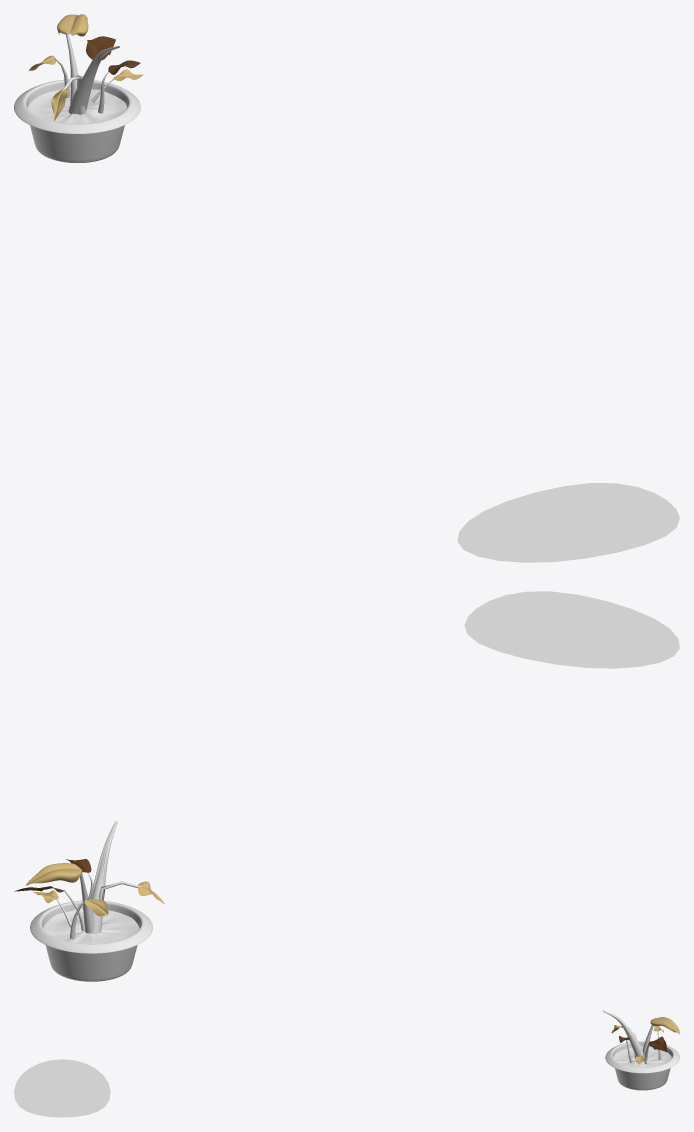
File: Dieffenbachia Old .fbx
3 views of the same model, one above another, from view 1: azimuth 30°, elevation 25°; view 2: azimuth 150°, elevation 25°; view 3: azimuth 270°, elevation 25° (orthographic). The views are drawn at different scales.
Visible parts, largest first — view 1: Plane, Circle, Circle.006, Circle.001; view 2: Plane, Circle, Circle.006, Circle.001, Plane.003; view 3: Plane, Circle, Circle.006, Circle.001, Plane.003, Plane.002.
Boxes of the visible parts, x1,y1,x2,y2 form: Plane: [457, 483, 679, 562]; Circle: [14, 79, 140, 162]; Circle.006: [28, 88, 127, 124]; Circle.001: [68, 46, 119, 114]; Plane: [464, 591, 679, 668]; Circle: [30, 900, 152, 981]; Circle.006: [43, 908, 139, 943]; Circle.001: [84, 821, 117, 934]; Plane.003: [26, 863, 81, 885]; Plane: [14, 1059, 110, 1117]; Circle: [605, 1041, 679, 1090]; Circle.006: [613, 1046, 671, 1067]; Circle.001: [602, 1010, 643, 1056]; Plane.003: [650, 1017, 679, 1034]; Plane.002: [648, 1036, 667, 1051].
Size of the model in its own units: 573 by 373 by 2764.
